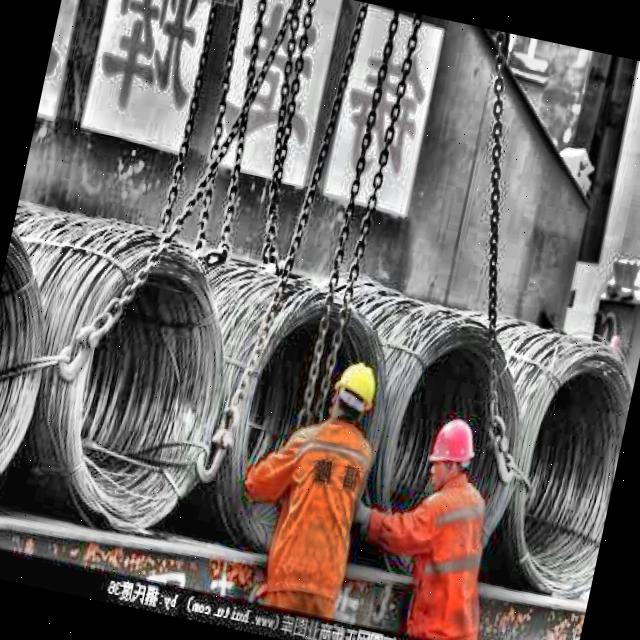helmet: (420, 412, 482, 496), (326, 356, 378, 432)
